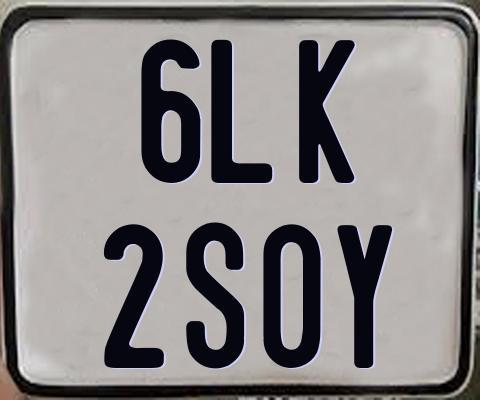0: (261, 224, 323, 369)
2: (102, 222, 166, 370)
6: (138, 38, 197, 182)
K: (296, 37, 355, 183)
L: (209, 39, 270, 188)
S: (183, 221, 241, 371)
Y: (335, 223, 391, 366)
